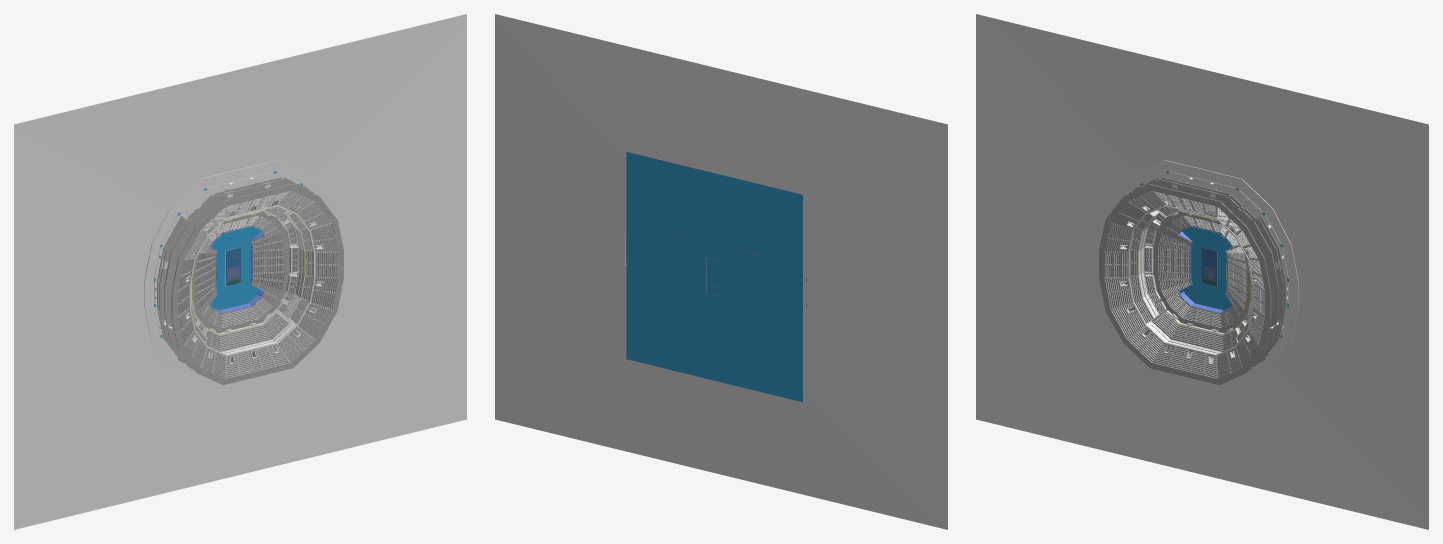
The model's file is grdFinal.glb.
3 views of the same model, side by side, from view 1: azimuth 30°, elevation 25°; view 2: azimuth 150°, elevation 25°; view 3: azimuth 330°, elevation 25° (orthographic).
Visible parts, largest first — view 1: Plane, Stands, Seats, Levels, Mesh_0, Isle Steps, Barriers, Rails, Windows, Mesh_1; view 2: Plane, Mesh_0; view 3: Plane, Stands, Seats, Levels, Mesh_0, Isle Steps, Barriers, Rails, Windows, Mesh_1.
Part boxes in pixels (<box>): Plane: <box>14,14,466,529</box>; Stands: <box>157,177,343,385</box>; Seats: <box>178,191,337,378</box>; Levels: <box>185,200,323,364</box>; Mesh_0: <box>154,171,302,360</box>; Isle Steps: <box>178,191,337,378</box>; Barriers: <box>209,225,264,313</box>; Rails: <box>186,200,323,364</box>; Windows: <box>224,214,303,354</box>; Mesh_1: <box>226,247,241,286</box>; Plane: <box>495,14,947,529</box>; Mesh_0: <box>626,152,802,402</box>; Plane: <box>976,14,1428,529</box>; Stands: <box>1099,177,1285,385</box>; Seats: <box>1105,191,1264,378</box>; Levels: <box>1119,200,1257,364</box>; Mesh_0: <box>1140,171,1288,360</box>; Isle Steps: <box>1105,191,1264,378</box>; Barriers: <box>1178,225,1233,313</box>; Rails: <box>1119,200,1256,364</box>; Windows: <box>1139,214,1218,354</box>; Mesh_1: <box>1201,247,1216,286</box>.
Size of the model in its own units: 317 by 272 by 30.01.
15 materials, 2 textured.
